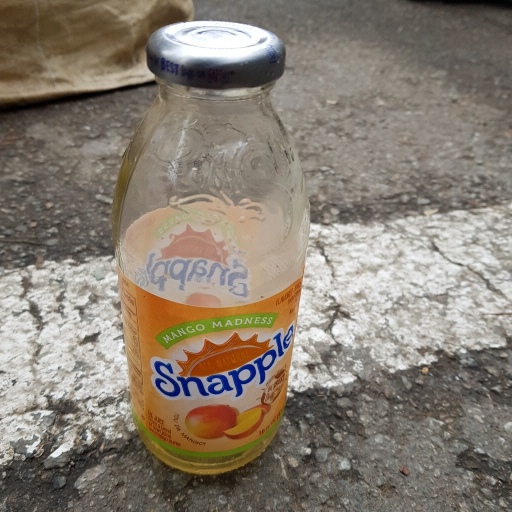Glass_4: (111, 20, 312, 478)
